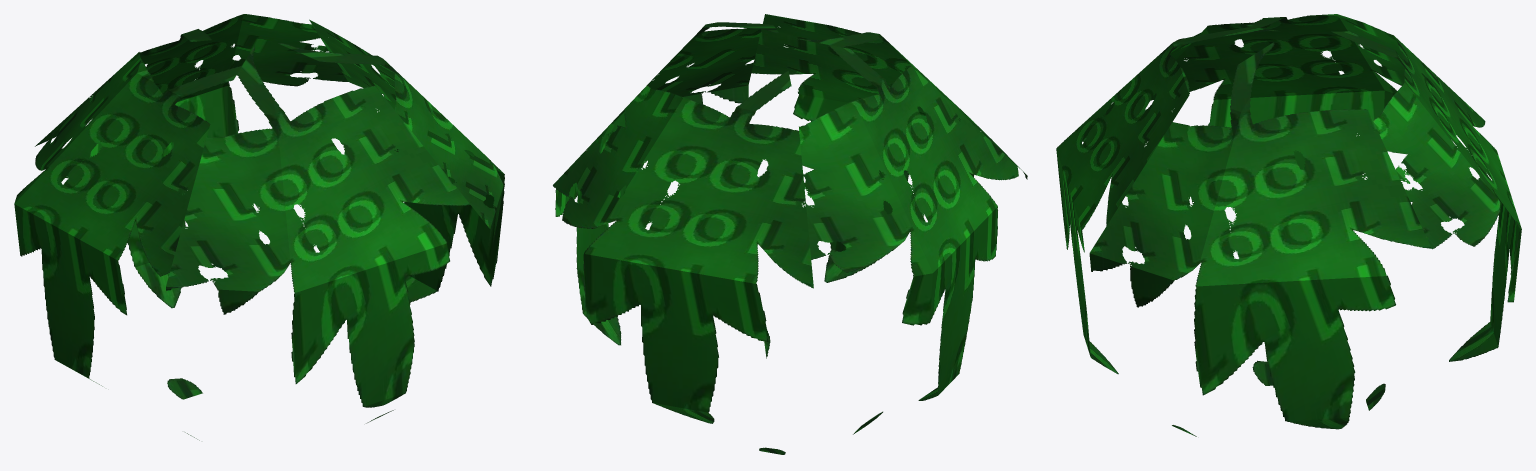
Rendered from block-chain-code-bush-art.glb.
The picture shows the model from 3 angles, left to right: view 1: azimuth 30°, elevation 25°; view 2: azimuth 150°, elevation 25°; view 3: azimuth 270°, elevation 25°; orthographic projection.
Visible parts, largest first — view 1: BlockChain_CodeBush_Art; view 2: BlockChain_CodeBush_Art; view 3: BlockChain_CodeBush_Art.
Boxes of the visible parts, x1=… form: BlockChain_CodeBush_Art: x1=14, y1=14, x2=504, y2=440; BlockChain_CodeBush_Art: x1=553, y1=14, x2=1027, y2=454; BlockChain_CodeBush_Art: x1=1056, y1=14, x2=1521, y2=436.
Size of the model in its own units: 3.2 by 2.93 by 3.2.
Materials: 1 (1 with a texture image).
